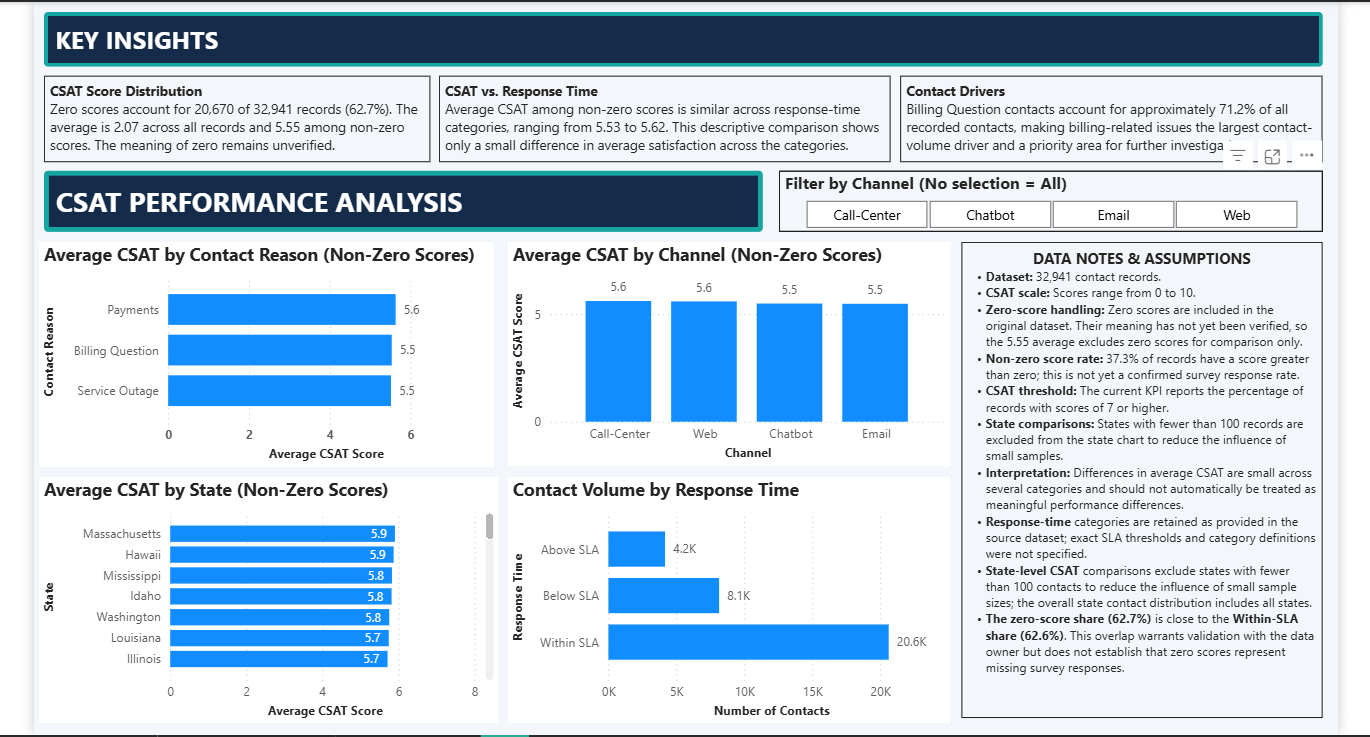

Layout of this report page (visuals, bound fields, positions):
{"tool":"powerbi","page":{"name":"CSAT Analysis","canvas":[1280,720],"ordinal":1},"visuals":[{"type":"textbox","box":[9.8,9.8,1255.2,54],"z":0},{"type":"textbox","box":[9.8,72.4,379.1,84.7],"z":1000},{"type":"textbox","box":[397.5,72.4,442.9,84.7],"z":3000},{"type":"textbox","box":[850.3,72.4,414.7,84.7],"z":4000},{"type":"clusteredBarChart","title":"Average CSAT by Contact Reason (Non-Zero Scores)","fields":{"Category":["csat_data.reason"],"Y":["csat_data.Average CSAT (Non-Zero Scores)"]},"box":[4.9,235.6,446.6,220.9],"z":5000},{"type":"clusteredColumnChart","title":"Average CSAT by Channel (Non-Zero Scores)","fields":{"Category":["csat_data.channel"],"Y":["csat_data.Average CSAT (Non-Zero Scores)"]},"box":[465,235.6,434.4,219.6],"z":6000},{"type":"textbox","box":[9.8,165.6,705.5,60.1],"z":7000},{"type":"clusteredBarChart","title":"Average CSAT by State (Non-Zero Scores)","fields":{"Category":["csat_data.state"],"Y":["csat_data.Average CSAT (Non-Zero Scores)"]},"box":[4.9,466.3,451.5,241.7],"z":8000},{"type":"clusteredBarChart","title":"Contact Volume by Response Time","fields":{"Category":["csat_data.response_time"],"Y":["CountNonNull(csat_data.id)"]},"box":[465,466.3,434.4,241.7],"z":9000},{"type":"slicer","title":"Filter by Channel  (No selection = All)","fields":{"Values":["csat_data.channel"]},"box":[731.3,165.6,533.7,60.1],"z":10000},{"type":"textbox","box":[910.4,235.6,354.6,467.5],"z":11000}]}

Visuals, with their boxes in screenshot pixels (x1, y1, x2, y2):
textbox: box(49, 6, 1319, 61)
textbox: box(49, 70, 433, 155)
textbox: box(441, 70, 889, 155)
textbox: box(899, 70, 1319, 155)
"Average CSAT by Contact Reason (Non-Zero Scores)" clusteredBarChart: box(44, 235, 496, 458)
"Average CSAT by Channel (Non-Zero Scores)" clusteredColumnChart: box(510, 235, 949, 457)
textbox: box(49, 164, 763, 225)
"Average CSAT by State (Non-Zero Scores)" clusteredBarChart: box(44, 468, 501, 713)
"Contact Volume by Response Time" clusteredBarChart: box(510, 468, 949, 713)
"Filter by Channel  (No selection = All)" slicer: box(779, 164, 1319, 225)
textbox: box(960, 235, 1319, 708)
